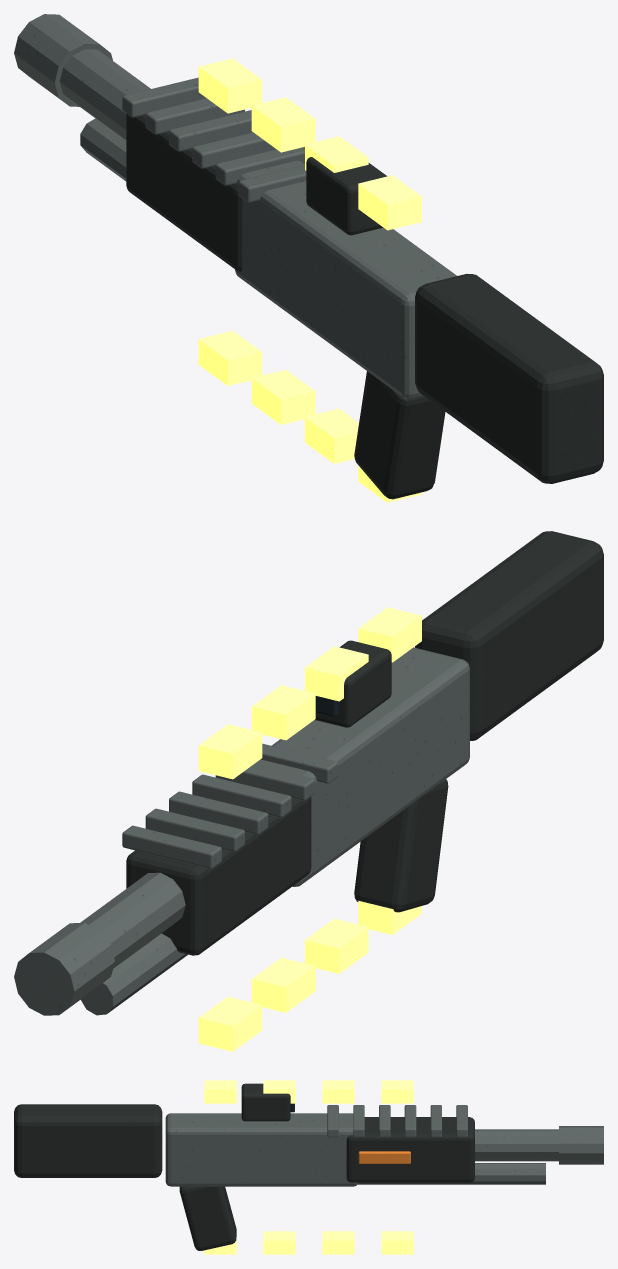
Rendered from shotgun_4.glb.
3 renders of one model, top to bottom at view 1: azimuth 30°, elevation 25°; view 2: azimuth 150°, elevation 25°; view 3: azimuth 270°, elevation 25°, orthographic. The views are drawn at different scales.
Visible parts, largest first — view 1: Weapon_shotgun, GRADE_4_RAIL_2_-1, GRADE_4_RAIL_3_-1, GRADE_4_RAIL_2_1, GRADE_4_RAIL_3_1, GRADE_4_RAIL_0_1, GRADE_4_RAIL_1_-1, GRADE_4_RAIL_1_1; view 2: Weapon_shotgun, GRADE_4_RAIL_3_-1, GRADE_4_RAIL_3_1, GRADE_4_RAIL_2_-1, GRADE_4_RAIL_2_1, GRADE_4_RAIL_1_-1, GRADE_4_RAIL_0_1, GRADE_4_RAIL_1_1, GRADE_4_RAIL_0_-1; view 3: Weapon_shotgun, GRADE_4_RAIL_0_1, GRADE_4_RAIL_1_-1, GRADE_4_RAIL_2_1, GRADE_4_RAIL_2_-1, GRADE_4_RAIL_3_1, GRADE_4_RAIL_3_-1, GRADE_4_RAIL_1_1, GRADE_4_RAIL_0_-1.
Boxes of the visible parts, left/top/right/bottom form: Weapon_shotgun: left=14, top=14, right=603, bottom=499; GRADE_4_RAIL_2_-1: left=251, top=369, right=315, bottom=424; GRADE_4_RAIL_3_-1: left=198, top=331, right=262, bottom=385; GRADE_4_RAIL_2_1: left=251, top=97, right=315, bottom=152; GRADE_4_RAIL_3_1: left=198, top=58, right=262, bottom=113; GRADE_4_RAIL_0_1: left=358, top=175, right=421, bottom=230; GRADE_4_RAIL_1_-1: left=305, top=408, right=358, bottom=463; GRADE_4_RAIL_1_1: left=305, top=136, right=368, bottom=172; Weapon_shotgun: left=14, top=531, right=603, bottom=1015; GRADE_4_RAIL_3_-1: left=198, top=996, right=262, bottom=1051; GRADE_4_RAIL_3_1: left=198, top=724, right=262, bottom=779; GRADE_4_RAIL_2_-1: left=251, top=957, right=315, bottom=1012; GRADE_4_RAIL_2_1: left=251, top=685, right=315, bottom=740; GRADE_4_RAIL_1_-1: left=305, top=918, right=368, bottom=973; GRADE_4_RAIL_0_1: left=358, top=607, right=421, bottom=662; GRADE_4_RAIL_1_1: left=305, top=646, right=368, bottom=701; GRADE_4_RAIL_0_-1: left=358, top=901, right=421, bottom=934; Weapon_shotgun: left=14, top=1083, right=603, bottom=1250; GRADE_4_RAIL_0_1: left=204, top=1080, right=236, bottom=1103; GRADE_4_RAIL_1_-1: left=263, top=1231, right=295, bottom=1254; GRADE_4_RAIL_2_1: left=322, top=1080, right=354, bottom=1103; GRADE_4_RAIL_2_-1: left=322, top=1231, right=354, bottom=1254; GRADE_4_RAIL_3_1: left=381, top=1080, right=413, bottom=1103; GRADE_4_RAIL_3_-1: left=381, top=1231, right=413, bottom=1254; GRADE_4_RAIL_1_1: left=263, top=1080, right=295, bottom=1103; GRADE_4_RAIL_0_-1: left=204, top=1237, right=236, bottom=1254.
Size of the model in its own units: 0.09 by 0.2826 by 0.915.
5 materials, 4 textured.
